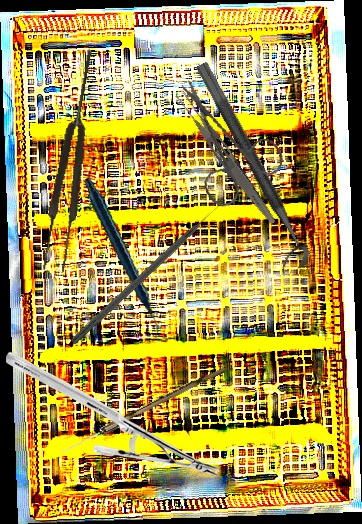Dressing Forceps: (172, 88, 282, 227)
Fixation Ring: (177, 60, 315, 277)
Handpiece: (57, 176, 185, 341)
Hook Surgical: (69, 197, 228, 347)
Iris Scissors: (159, 78, 295, 217)
Needle Holder: (6, 351, 219, 479)
Surgical Spoon: (58, 363, 227, 458)
Tissue Forceps: (38, 47, 106, 274)
